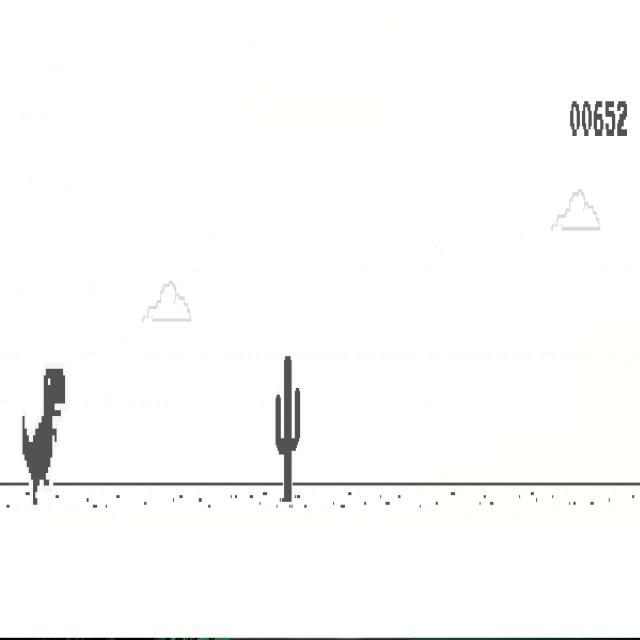cacto: (274, 354, 302, 503)
dino: (22, 368, 66, 506)
